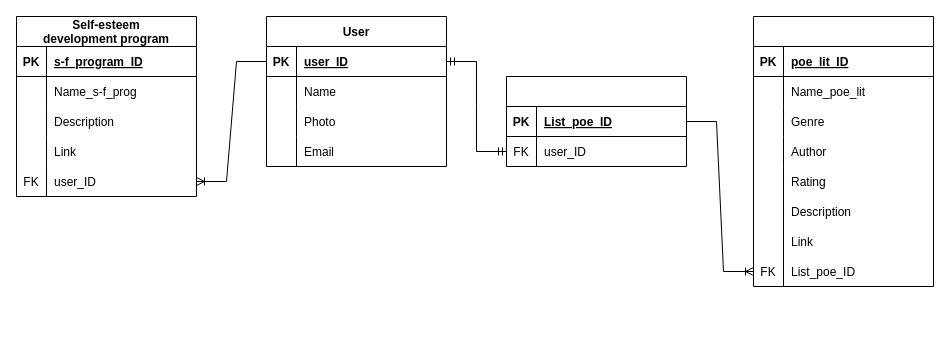
This 950x363 diagram has some shape labels left out. Each missing label, with the box of its shape:
List of poetic literature: (506, 76, 686, 166)
Poetic literature: (752, 16, 934, 286)
